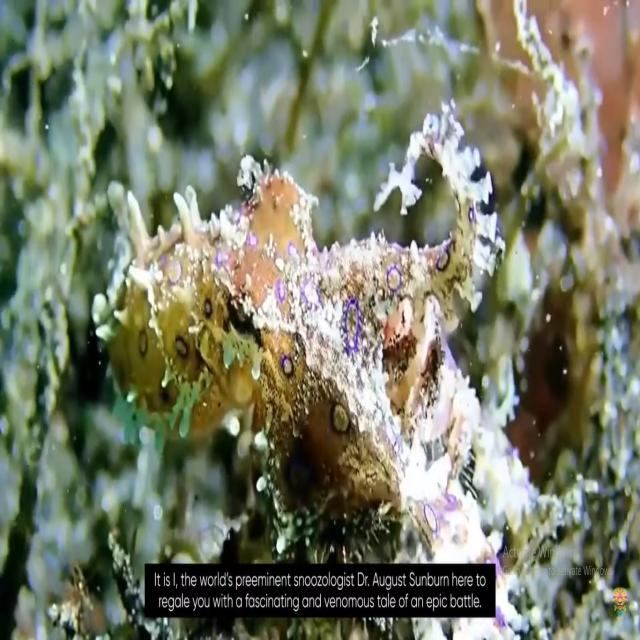blue_ringed_octopus: (105, 109, 517, 639)
